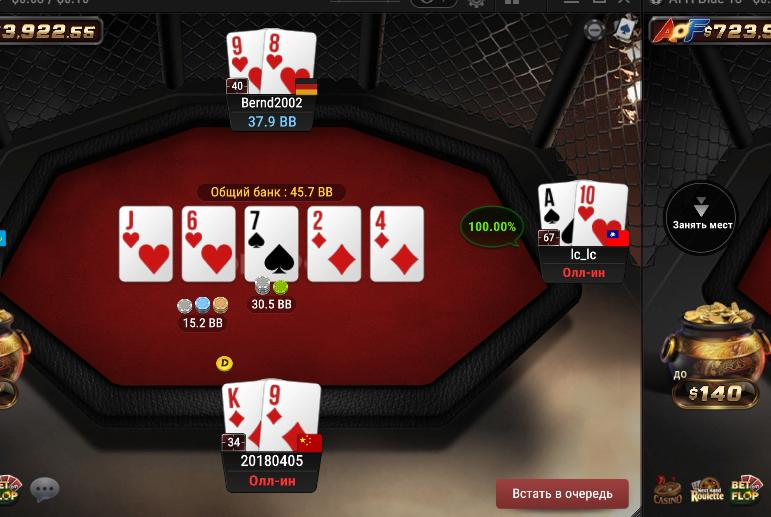10h: (576, 183, 626, 244)
2d: (307, 206, 361, 281)
4d: (371, 206, 424, 281)
6h: (183, 207, 236, 281)
7s: (245, 206, 298, 283)
8h: (264, 27, 316, 95)
9d: (264, 379, 320, 454)
9h: (225, 29, 264, 91)
As: (539, 181, 577, 245)
Jh: (118, 206, 173, 282)
Kd: (221, 381, 263, 449)
